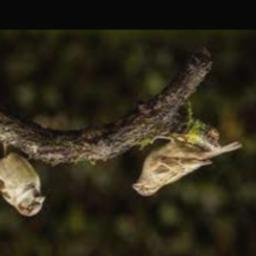Sparrow: (133, 137, 242, 198), (0, 140, 46, 217)
